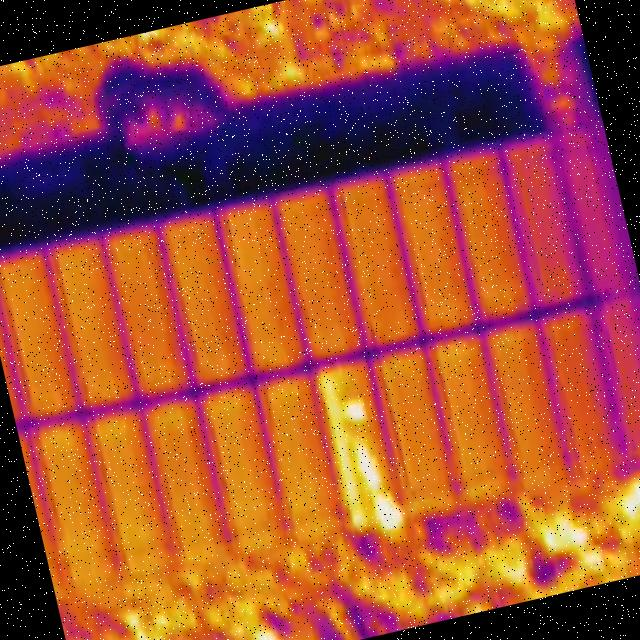Hotspot: (314, 368, 367, 531), (350, 432, 386, 492), (366, 484, 406, 532), (338, 391, 372, 432)
